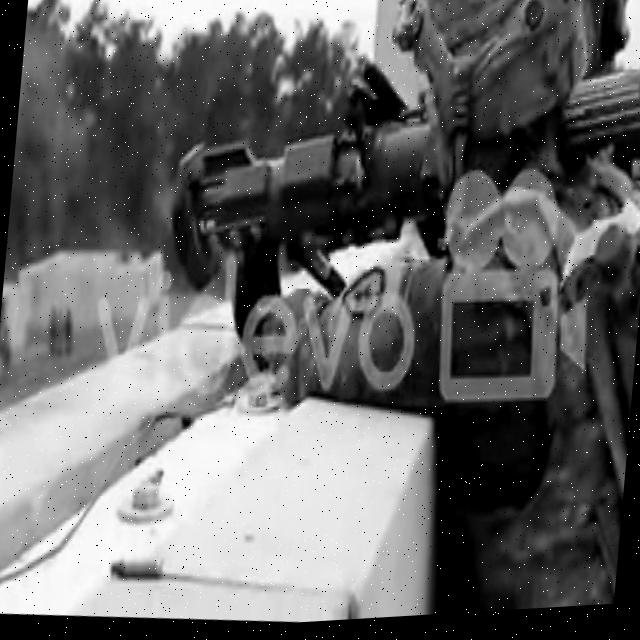rocket: (162, 12, 640, 330)
